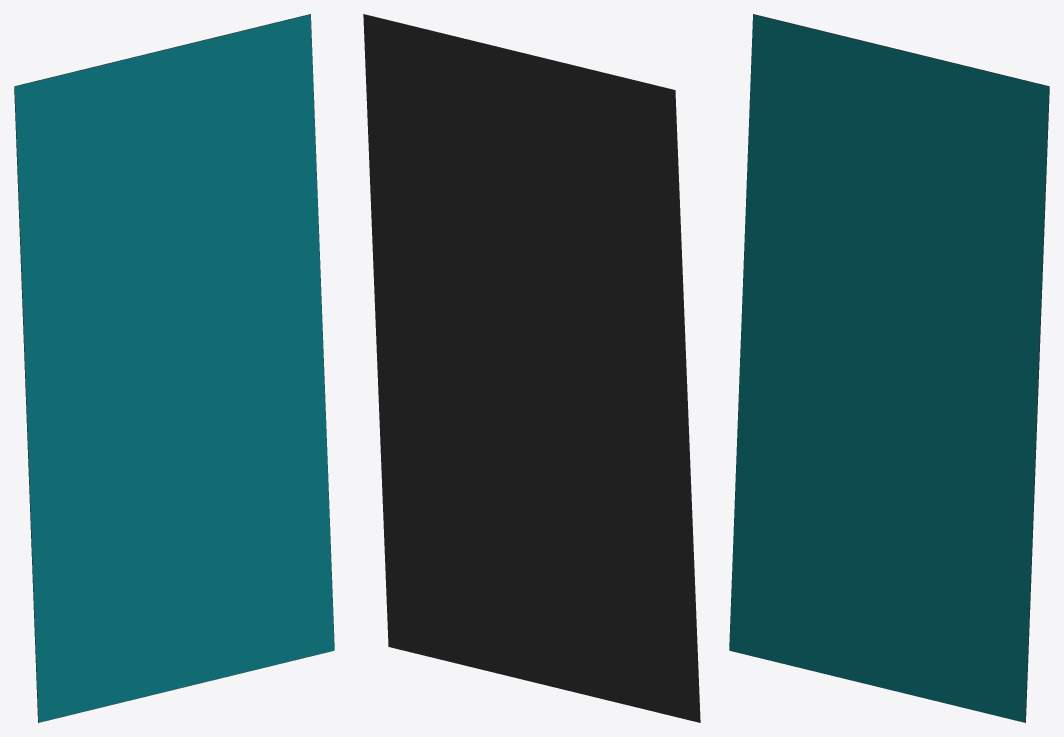
3 renders of one model, left to right at view 1: azimuth 30°, elevation 25°; view 2: azimuth 150°, elevation 25°; view 3: azimuth 330°, elevation 25°, orthographic. The views are drawn at different scales.
Visible parts, largest first — view 1: xc_mirror, acrylic-mirror; view 2: acrylic-mirror; view 3: xc_mirror, acrylic-mirror.
Boxes of the visible parts, x1,y1,x2,y2 form: xc_mirror: (14, 14, 334, 722); acrylic-mirror: (14, 14, 334, 722); acrylic-mirror: (363, 14, 700, 722); xc_mirror: (729, 14, 1049, 722); acrylic-mirror: (729, 14, 1049, 722).
Bounding box in the file's own units: 1.22 × 2.43 × 0.1725.
